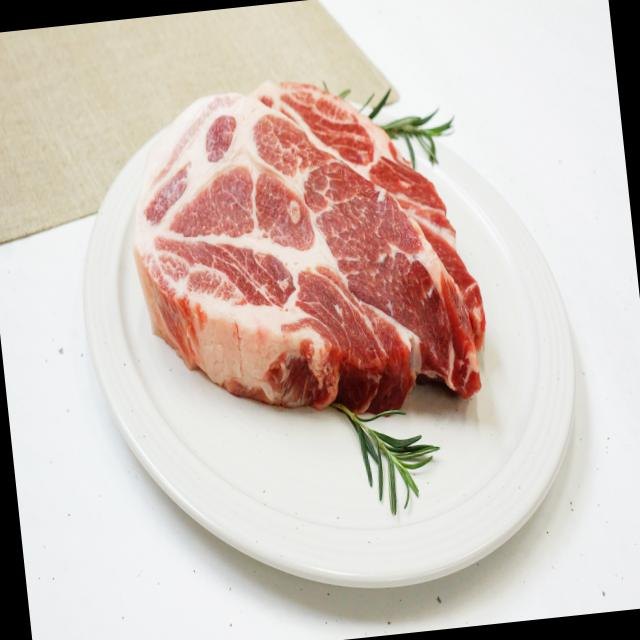pork: (104, 49, 498, 444)
